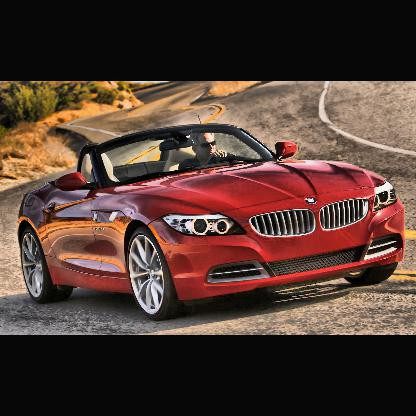BMW Z4 Convertible 2012: (17, 125, 405, 320)
